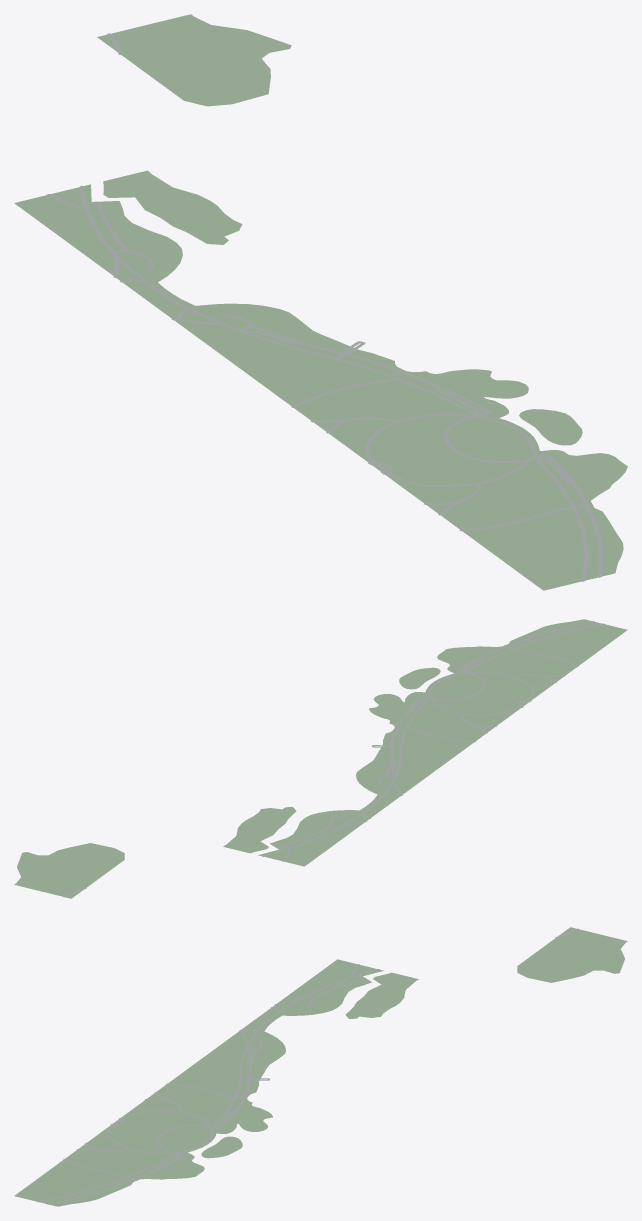
Rendered from -8_-4-known-coarse.glb.
The picture shows the model from 3 angles, top to bottom: view 1: azimuth 30°, elevation 25°; view 2: azimuth 150°, elevation 25°; view 3: azimuth 330°, elevation 25°; orthographic projection. The views are drawn at different scales.
Bounding box in the file's own units: 315 × 0.1 × 997.
